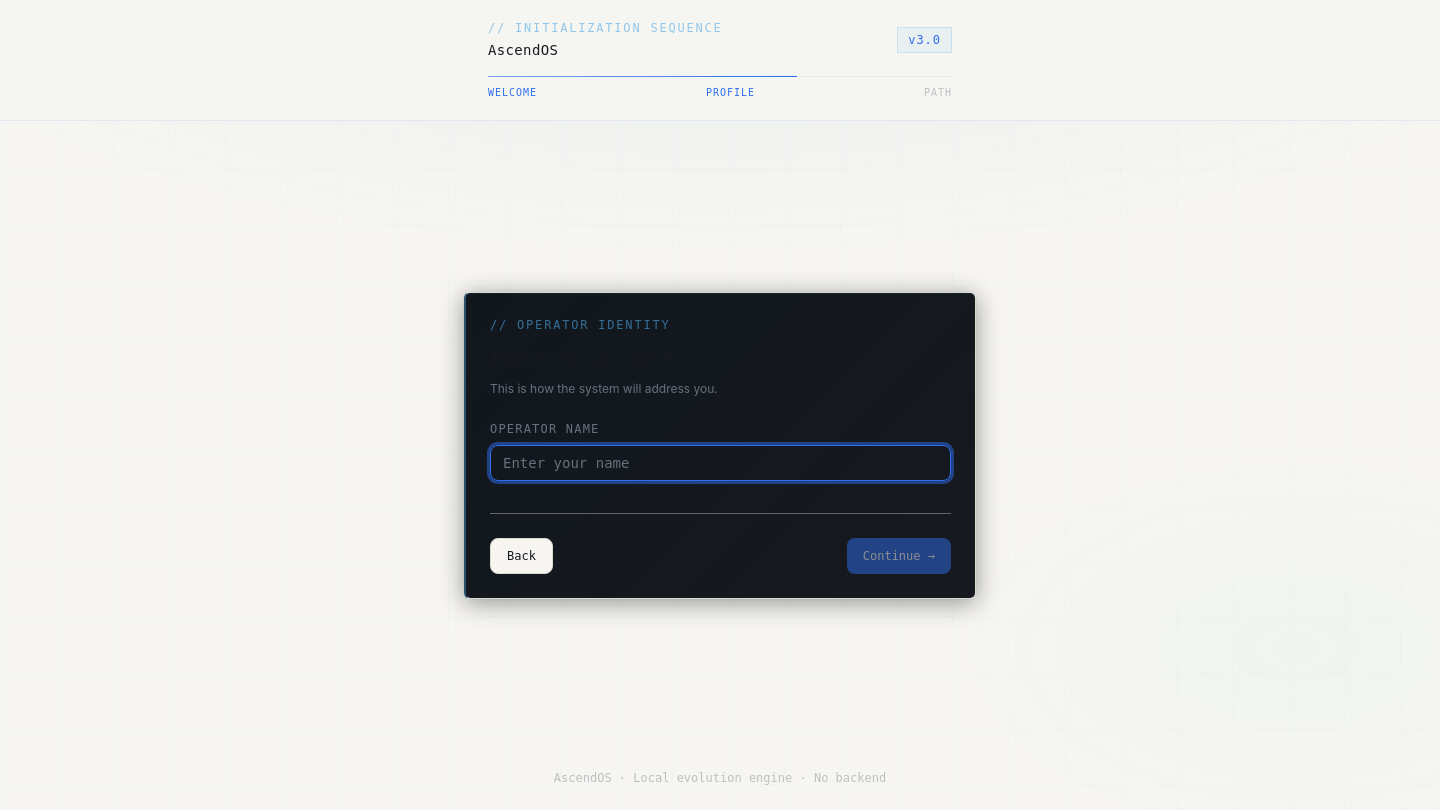
Test: OnboardingFlow — canContinue validation › enables Continue on profile step when name has 2+ chars
The width and height of the screenshot is (1440, 810).
In the field with placeholder "Enter your name": (720,463) [490,445,951,481], type "Al"
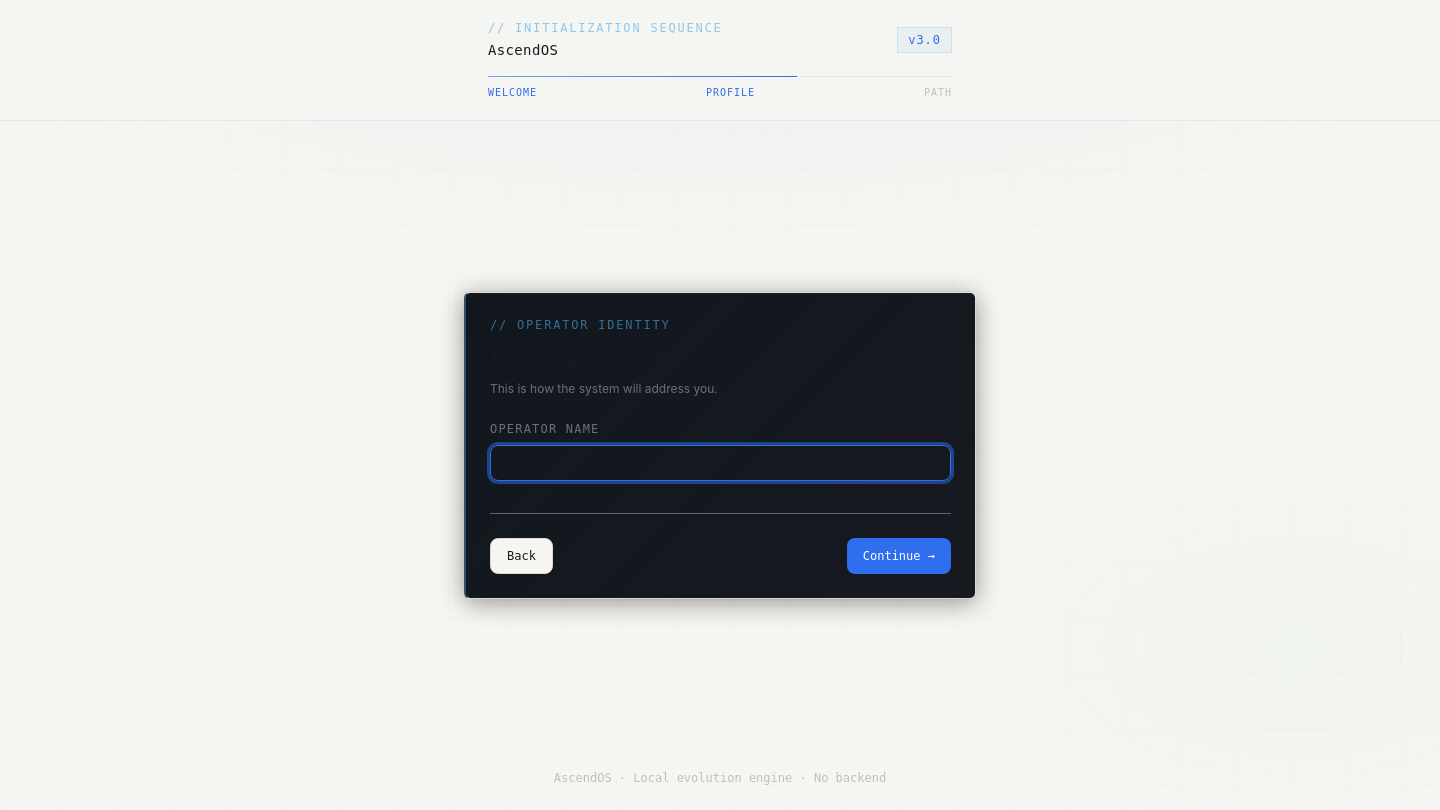
Result: the button "Continue →" is enabled at [847,538,951,574]
